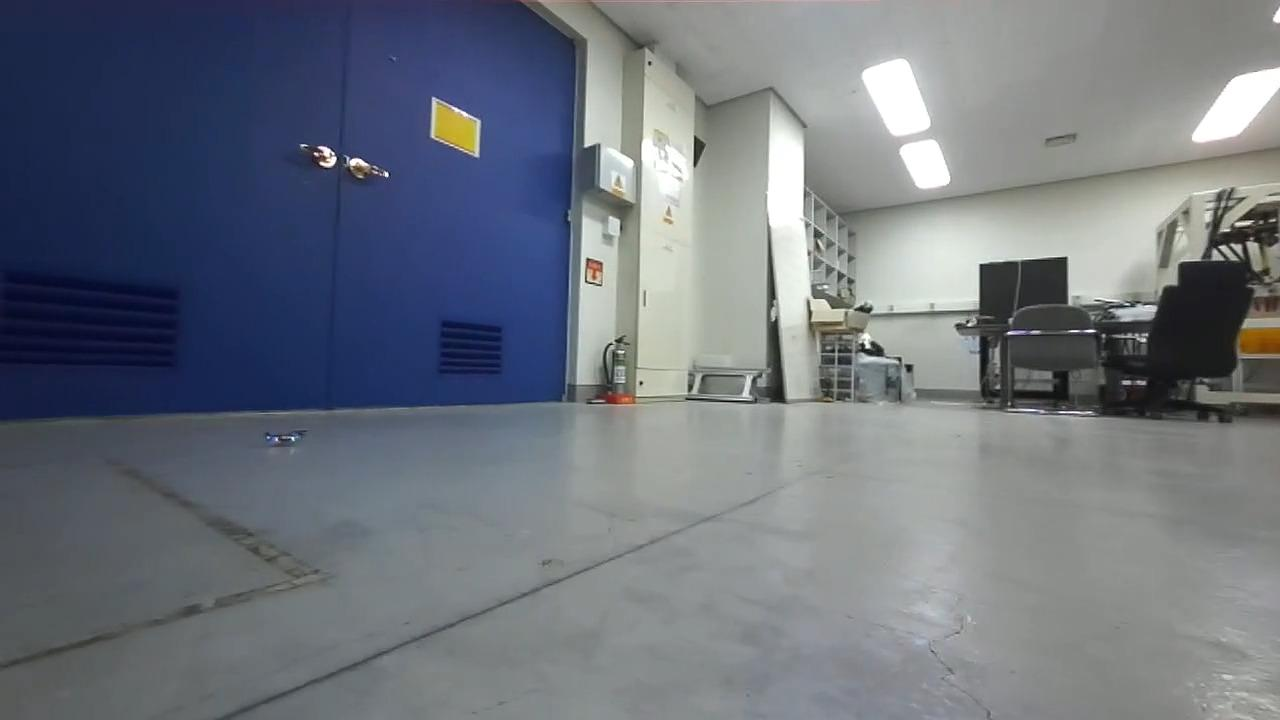crazyflie: (253, 420, 311, 457)
